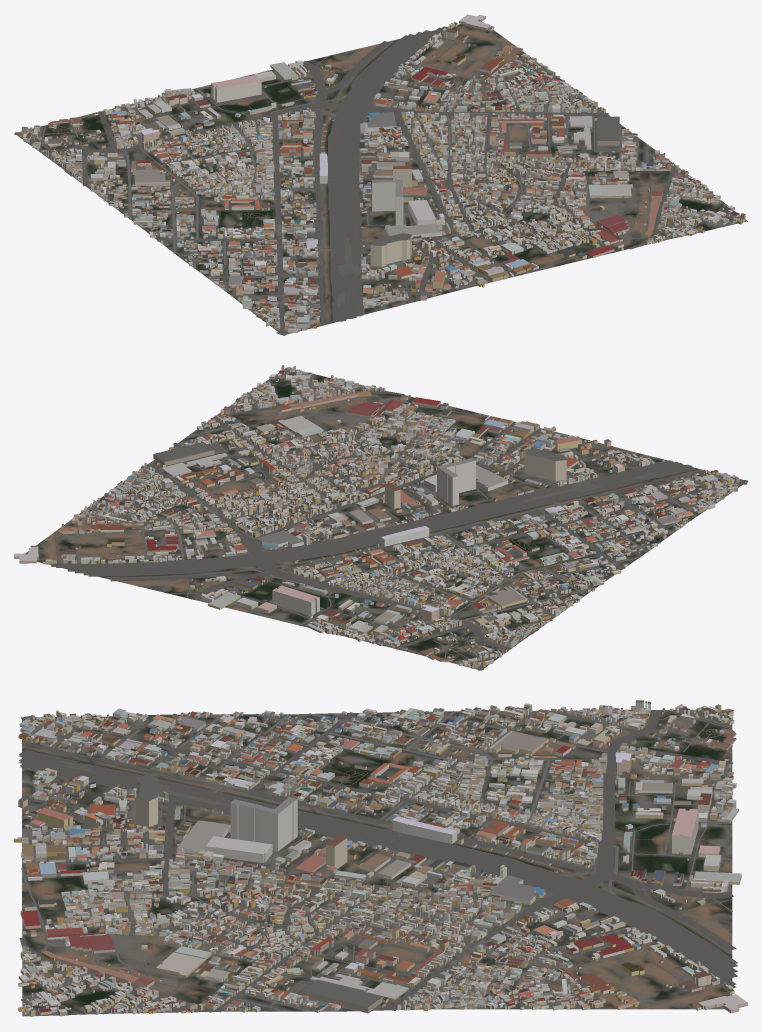
3 views of the same model, one above another, from view 1: azimuth 30°, elevation 25°; view 2: azimuth 150°, elevation 25°; view 3: azimuth 270°, elevation 25° (orthographic). The views are drawn at different scales.
Parts seen in each view (by area): view 1: buildings, ground, roads; view 2: buildings, ground, roads; view 3: buildings, ground, roads.
Boxes of the visible parts, x1=… form: buildings: x1=20, y1=14, x2=745, y2=332; ground: x1=17, y1=21, x2=747, y2=334; roads: x1=14, y1=26, x2=746, y2=335; buildings: x1=14, y1=365, x2=739, y2=668; ground: x1=25, y1=367, x2=747, y2=669; roads: x1=51, y1=368, x2=747, y2=670; buildings: x1=14, y1=700, x2=747, y2=1016; ground: x1=22, y1=710, x2=732, y2=1016; roads: x1=19, y1=708, x2=737, y2=1016.
Bounding box in the file's own units: 1429 × 96.29 × 1447.
